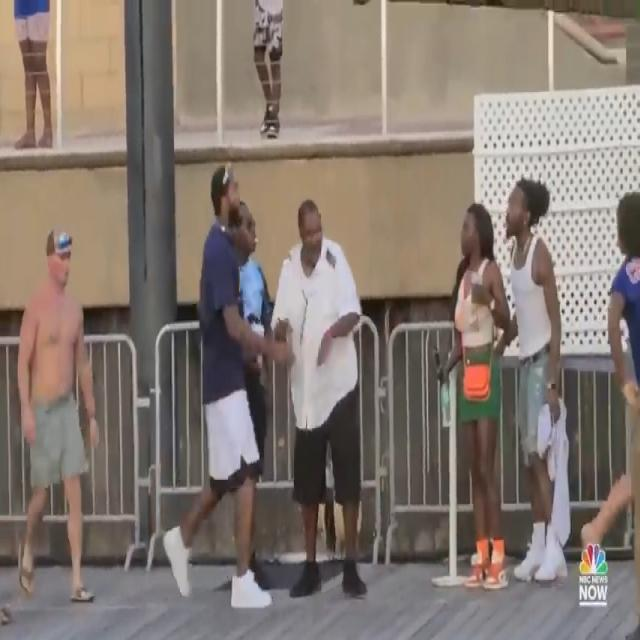non-fight: (161, 142, 371, 614), (434, 173, 640, 596), (15, 218, 106, 614)
